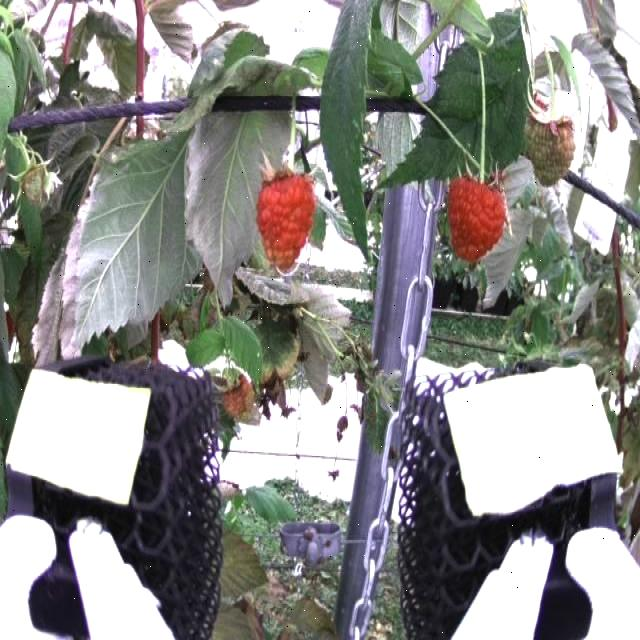Riped berries: (250, 168, 320, 269), (444, 170, 508, 266)
